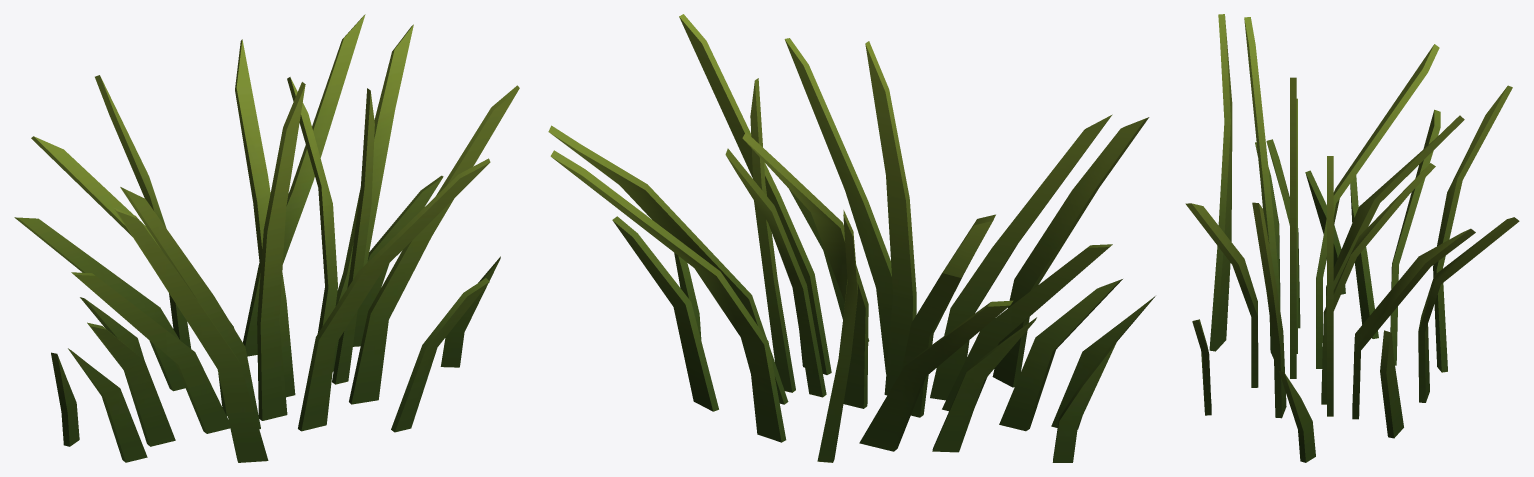
File: grass-1.glb
3 views of the same model, side by side, from view 1: azimuth 30°, elevation 25°; view 2: azimuth 150°, elevation 25°; view 3: azimuth 270°, elevation 25° (orthographic). The views are drawn at different scales.
Visible parts, largest first — view 1: Grass_Large_Extruded; view 2: Grass_Large_Extruded; view 3: Grass_Large_Extruded.
Boxes of the visible parts, x1=… form: Grass_Large_Extruded: x1=14, y1=14, x2=519, y2=462; Grass_Large_Extruded: x1=548, y1=14, x2=1155, y2=462; Grass_Large_Extruded: x1=1185, y1=14, x2=1519, y2=462.
Size of the model in its own units: 0.7447 by 0.5089 by 0.4973.
1 material, 1 textured.
